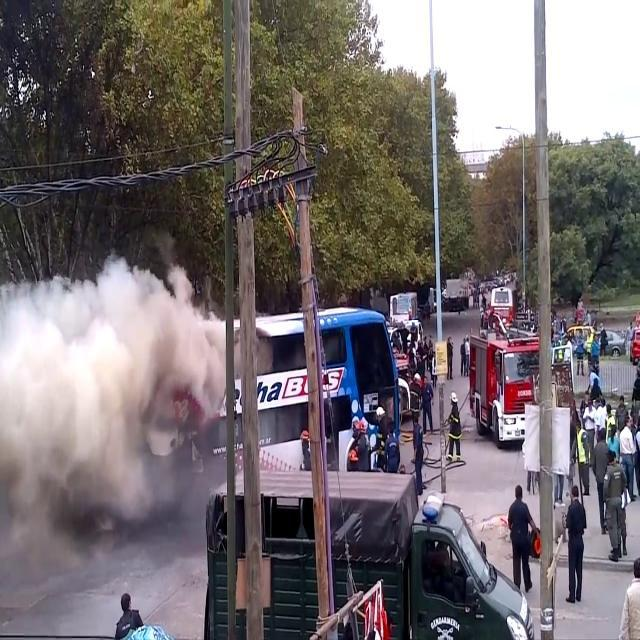Smoke: (0, 253, 209, 561)
